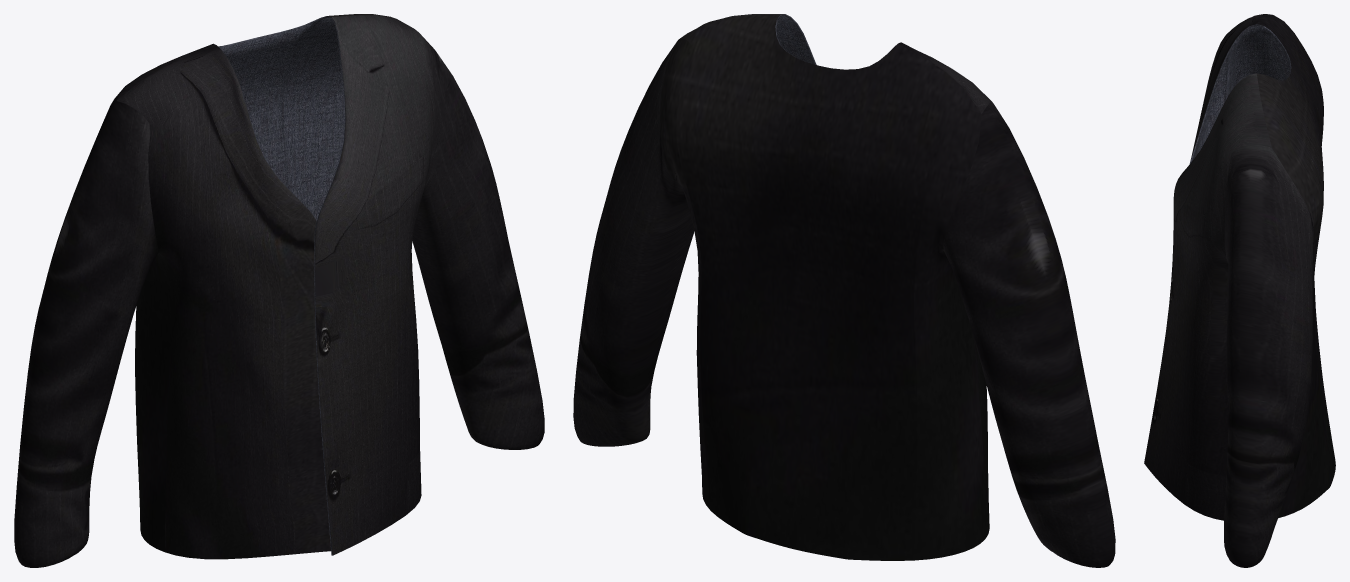
The model's file is suit.fbx.
The picture shows the model from 3 angles, left to right: view 1: azimuth 30°, elevation 25°; view 2: azimuth 150°, elevation 25°; view 3: azimuth 270°, elevation 25°; orthographic projection. The views are drawn at different scales.
Parts seen in each view (by area): view 1: suit_outside, suit_inside; view 2: suit_outside, suit_inside; view 3: suit_outside, suit_inside.
Boxes of the visible parts, x1,y1,x2,y2 form: suit_outside: (14,14,544,567); suit_inside: (218,16,345,555); suit_outside: (573,14,1115,567); suit_inside: (775,14,891,64); suit_outside: (1144,14,1335,567); suit_inside: (1190,24,1291,163).
Bounding box in the file's own units: 383 × 332 × 138.
Materials: 2 (2 with a texture image).
